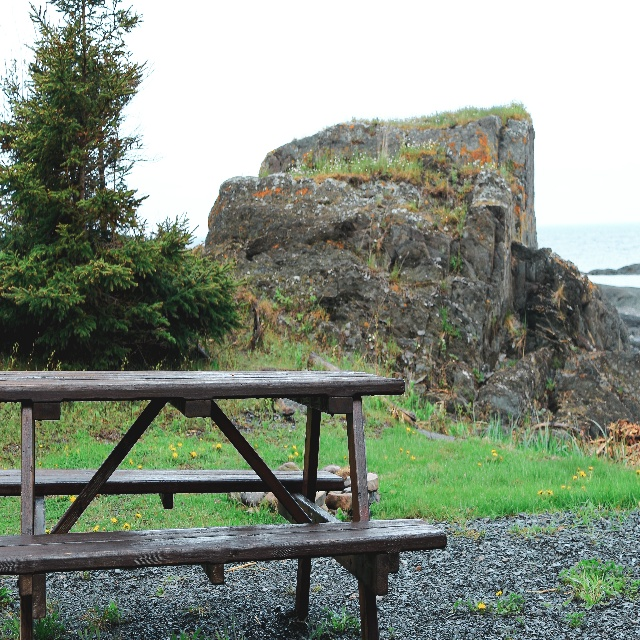obstacle: (1, 323, 465, 625)
